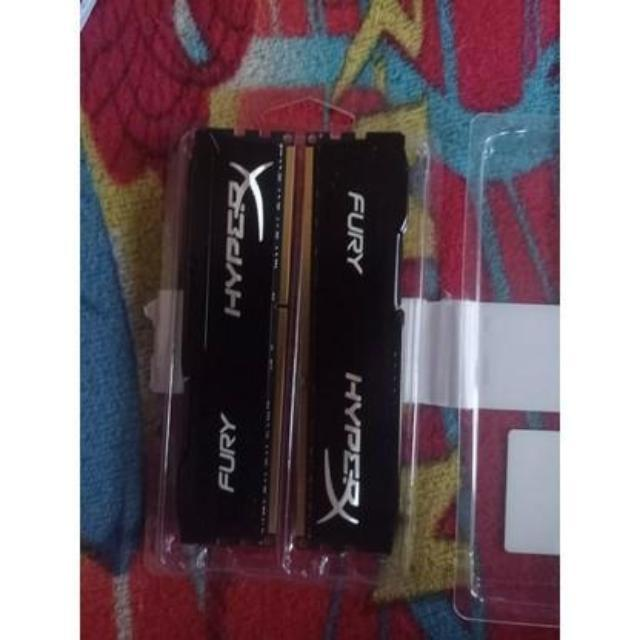RAM: (166, 121, 294, 566), (294, 135, 422, 560)
